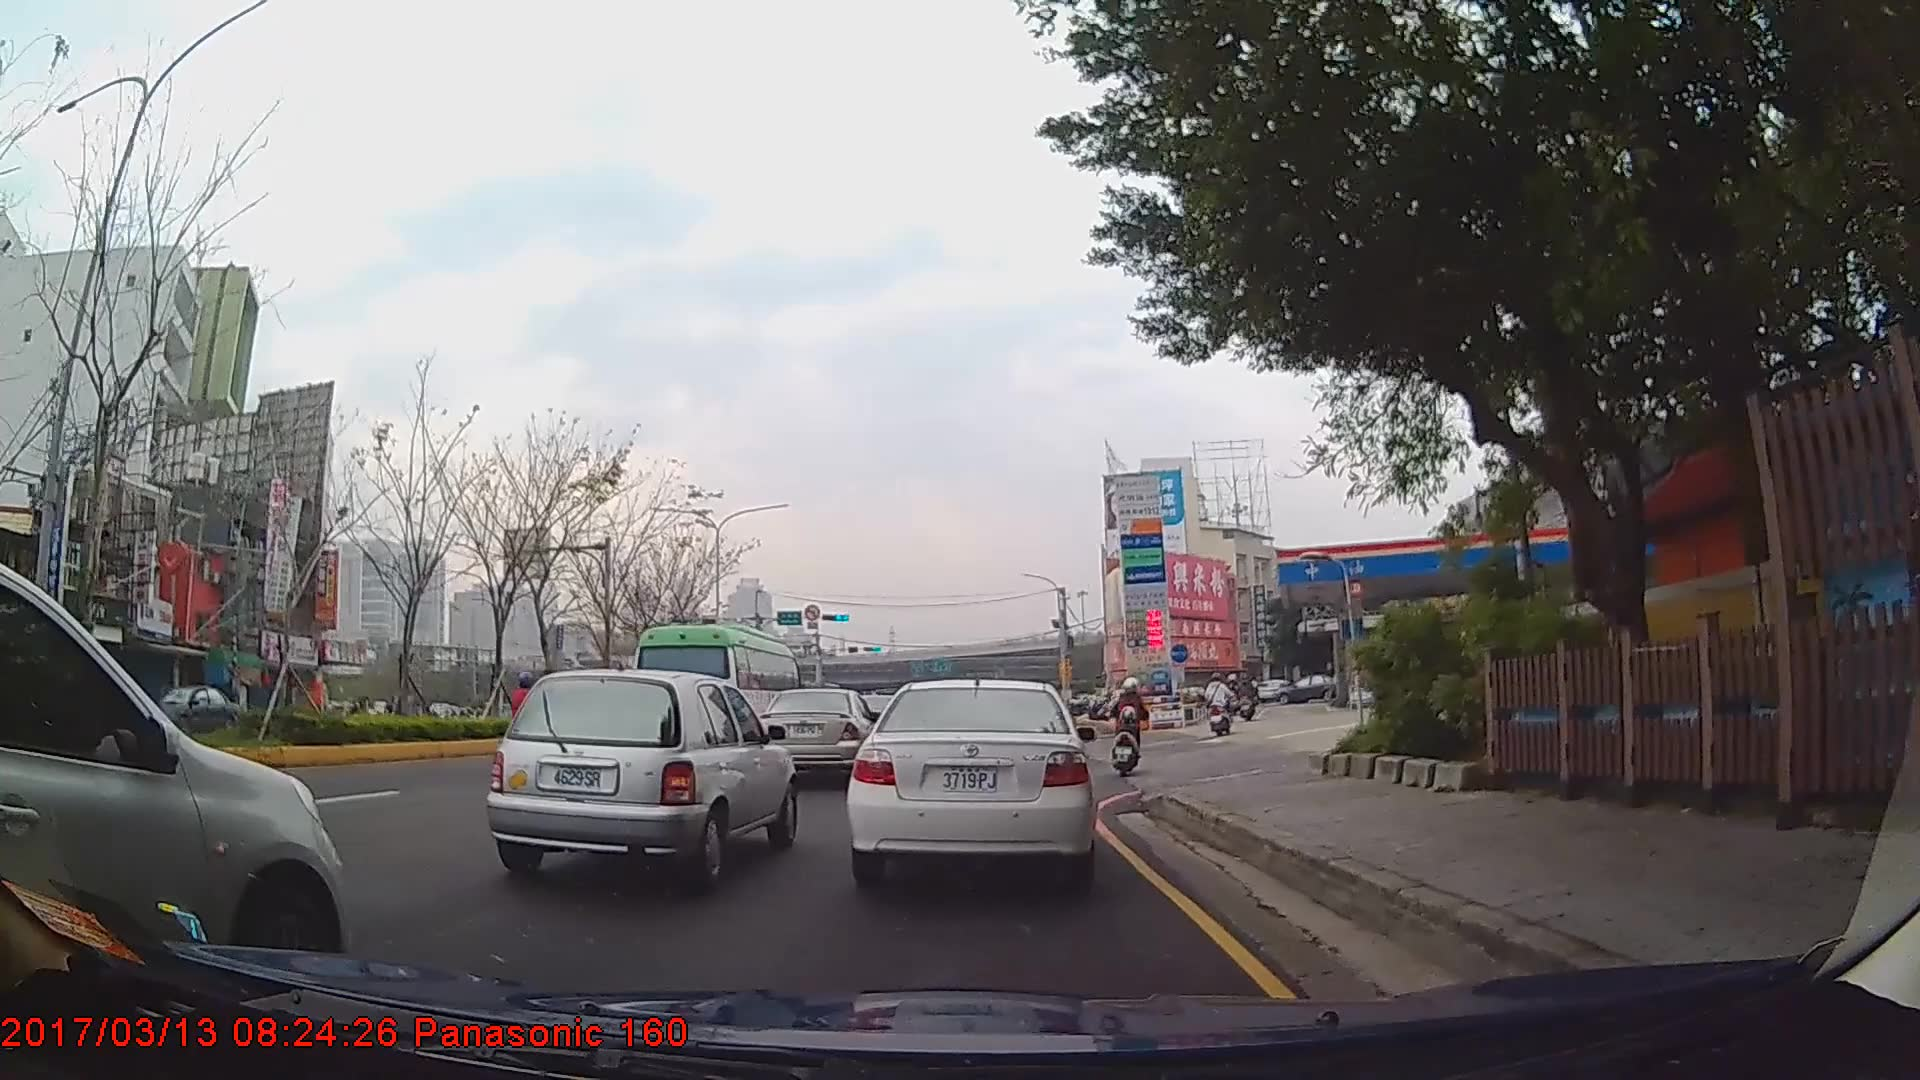rider: (511, 673, 545, 783), (1113, 676, 1147, 771), (1204, 669, 1233, 735)
vehicle: (0, 561, 344, 994), (488, 665, 800, 886), (844, 673, 1095, 885), (627, 620, 801, 764), (754, 688, 881, 782), (138, 680, 241, 735), (1271, 674, 1341, 704)
